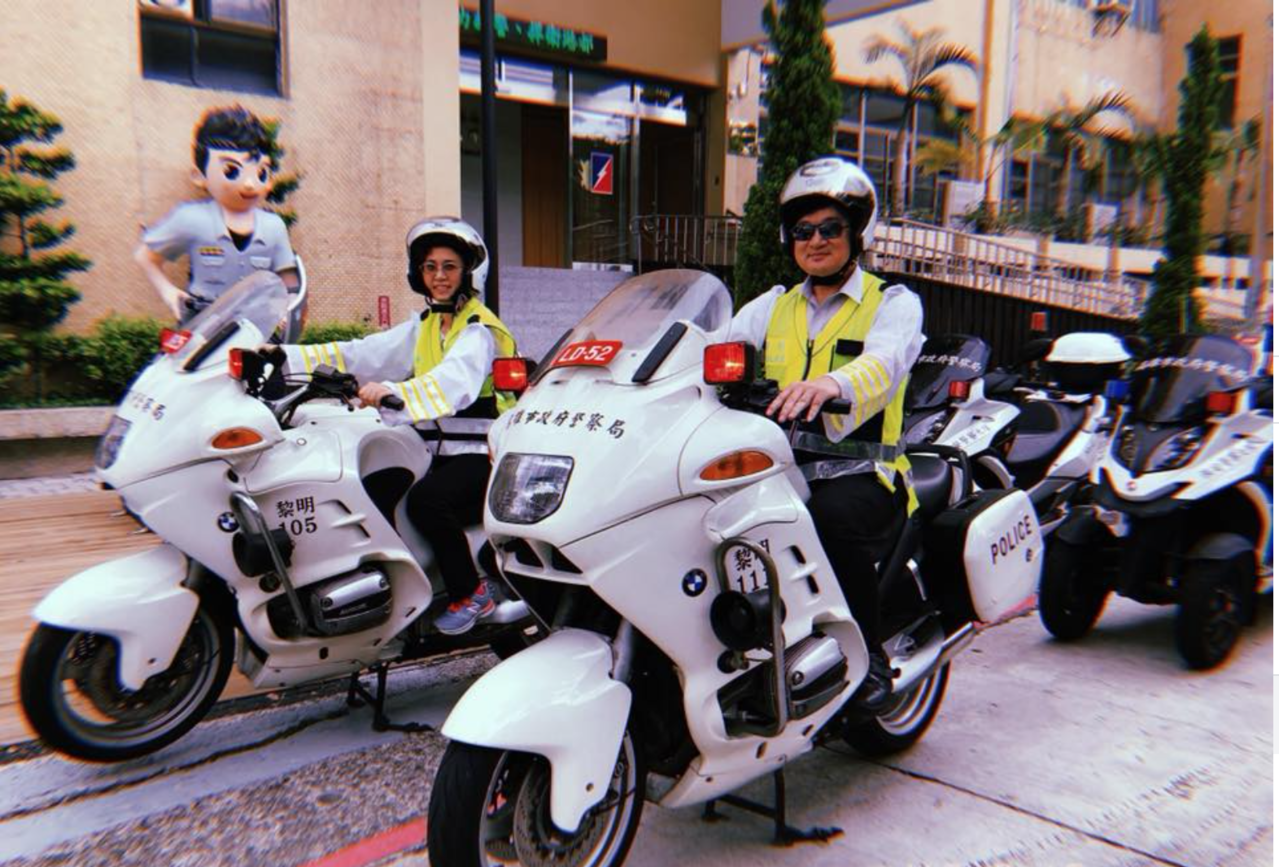helmet: (766, 154, 891, 236), (393, 217, 514, 286)
